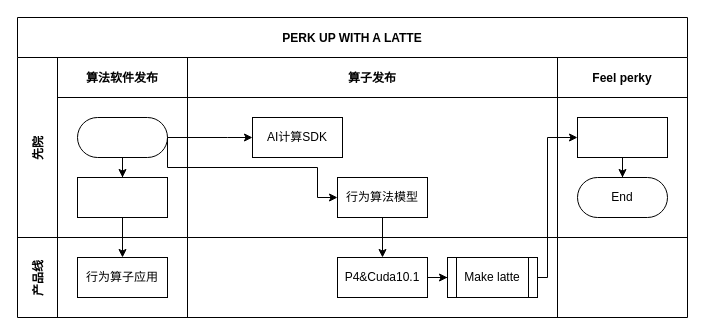
Some shapes in this 705 by 335 pixel diagram are drawn without their labels. The centre of each missing label's shape, as x and y in pixels:
Drink latte: (x=622, y=137)
Start: (x=122, y=137)
行为算法包: (x=122, y=197)
